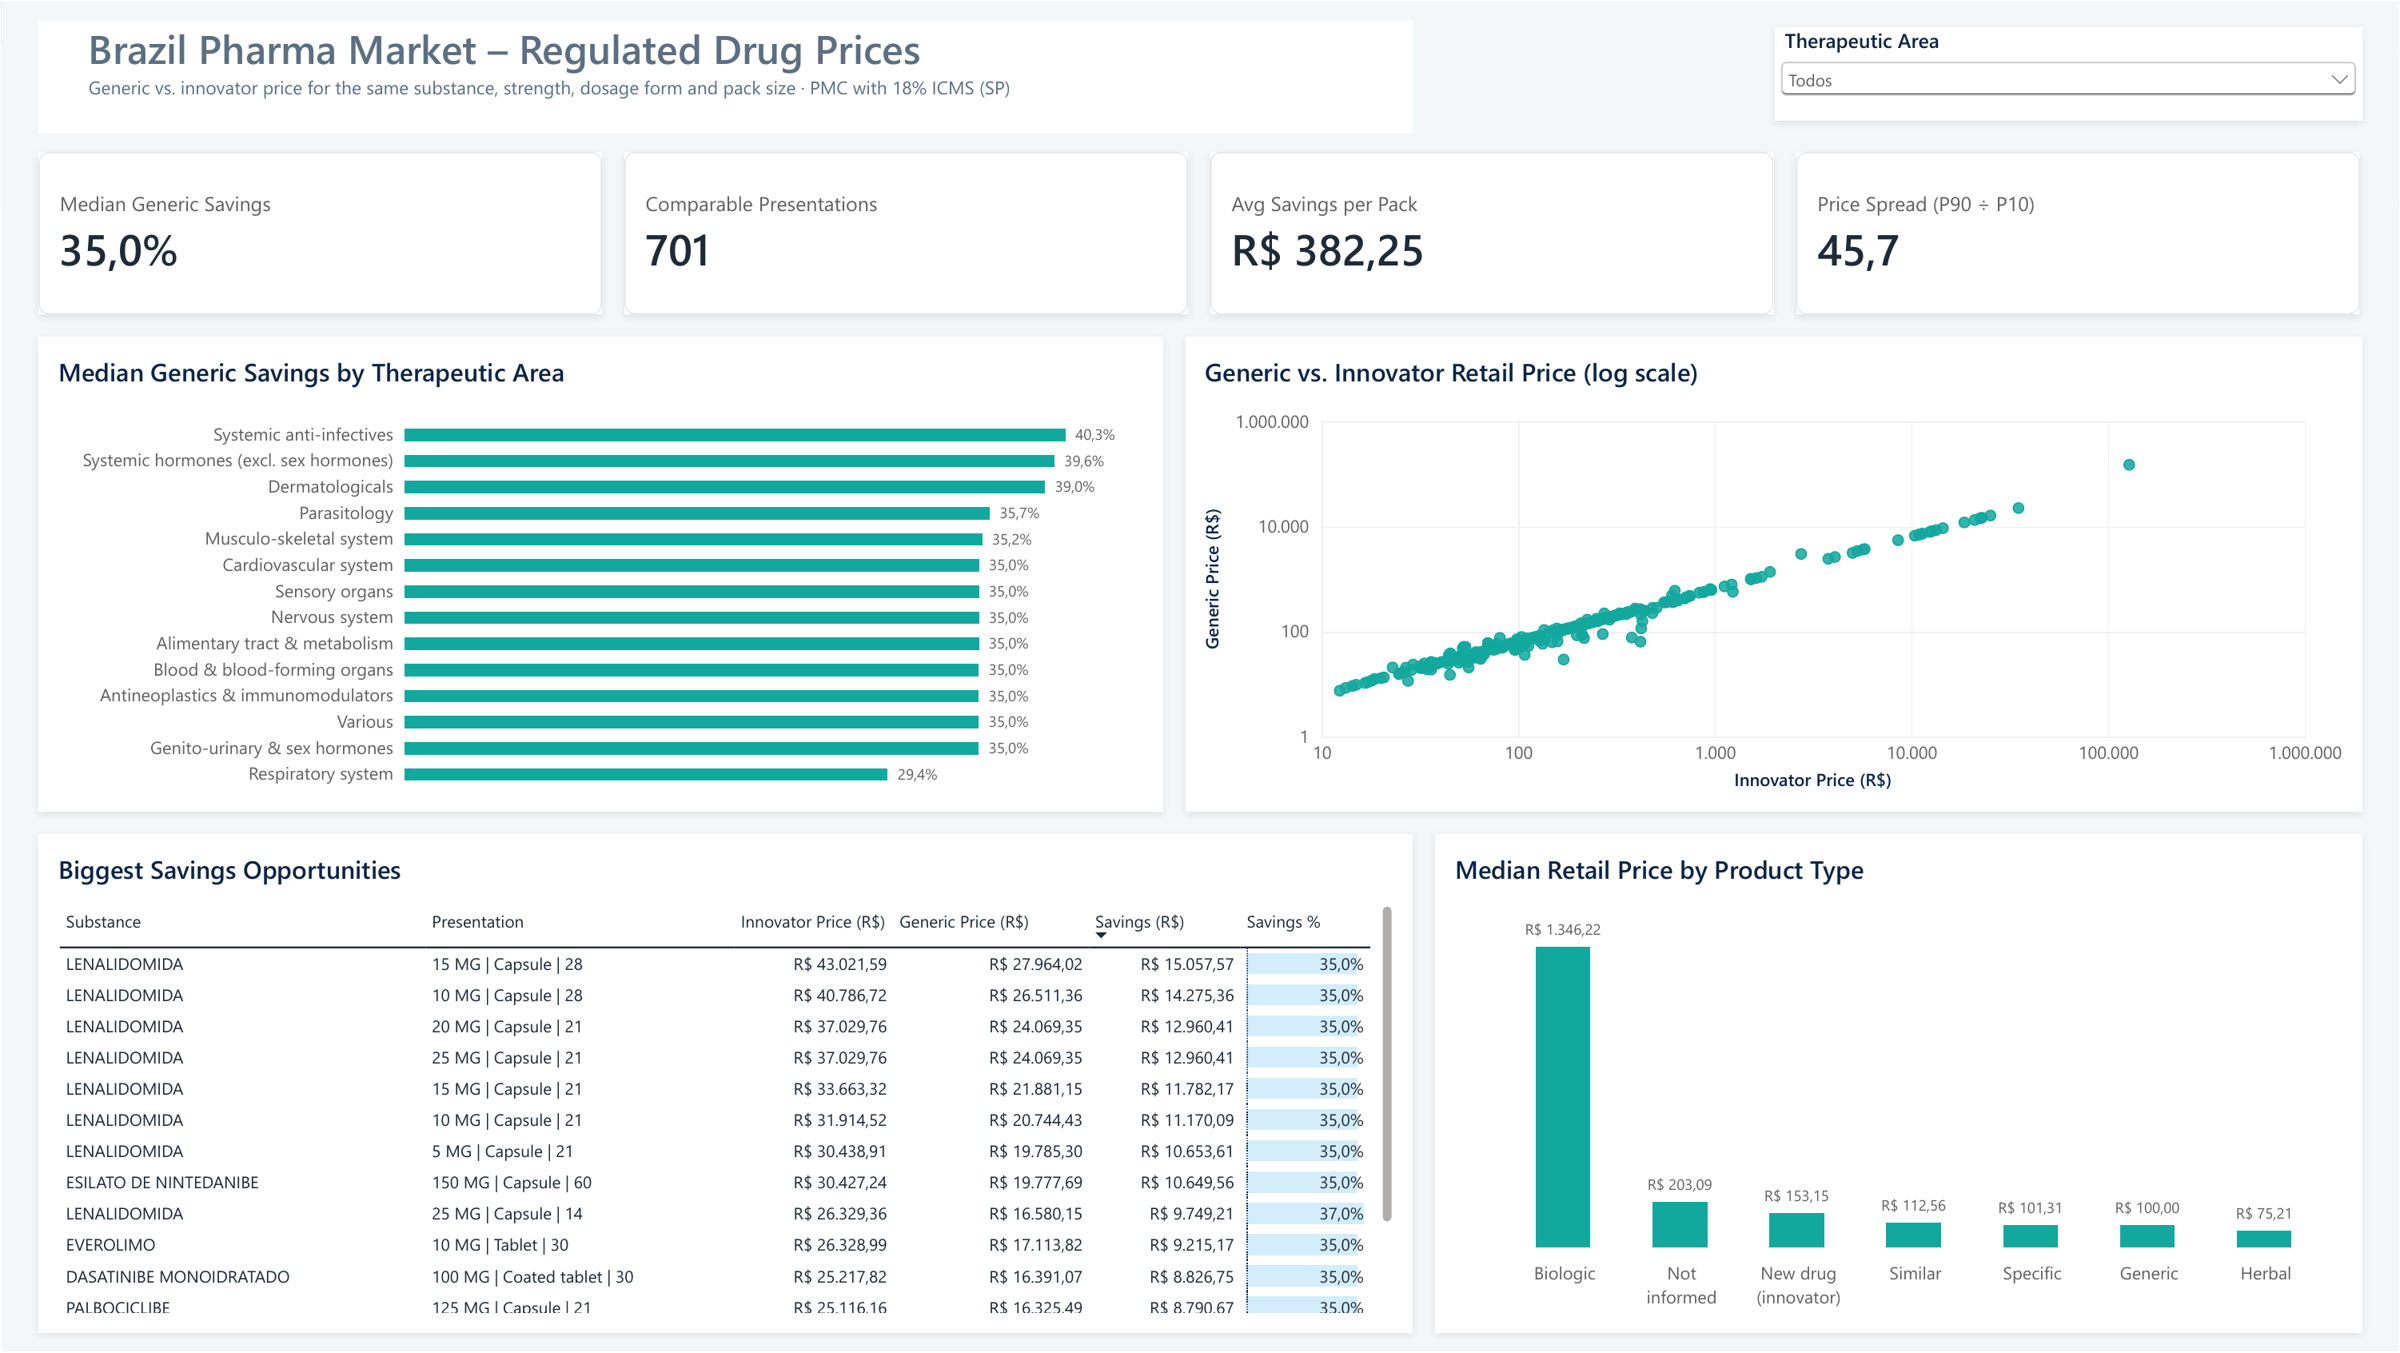

The page's visual inventory and layout, read from the dashboard file:
{"tool":"powerbi","page":{"name":"Price Analysis","canvas":[1920,1080],"ordinal":1},"visuals":[{"type":"textbox","box":[30,15,1100,90],"z":0},{"type":"slicer","fields":{"Values":["generic_vs_reference.anatomical_group"]},"box":[1420,20,470,75],"z":1000},{"type":"cardVisual","fields":{"Data":["_Measures.Median Generic Savings %"]},"box":[30,120,451,130],"z":2000},{"type":"cardVisual","fields":{"Data":["_Measures.Comparable Pairs"]},"box":[499,120,451,130],"z":3000},{"type":"cardVisual","fields":{"Data":["_Measures.Avg Savings per Pack (R$)"]},"box":[968,120,451,130],"z":4000},{"type":"cardVisual","fields":{"Data":["_Measures.Price Spread (P90/P10)"]},"box":[1437,120,451,130],"z":5000},{"type":"clusteredBarChart","title":"Median Generic Savings by Therapeutic Area","fields":{"Category":["generic_vs_reference.anatomical_group"],"Y":["_Measures.Median Generic Savings %"]},"box":[30,268,900,380],"z":6000},{"type":"scatterChart","title":"Generic vs. Innovator Retail Price (log scale)","fields":{"Category":["generic_vs_reference.substance"],"X":["Avg(generic_vs_reference.reference_pmc)"],"Y":["Avg(generic_vs_reference.generic_pmc)"]},"box":[948,268,942,380],"z":7000},{"type":"tableEx","title":"Biggest Savings Opportunities","fields":{"Values":["generic_vs_reference.substance","generic_vs_reference.match_key","Sum(generic_vs_reference.reference_pmc)","Sum(generic_vs_reference.generic_pmc)","_Measures.Avg Savings per Pack (R$)","Sum(generic_vs_reference.savings_pct)"]},"box":[30,666,1100,399],"z":8000},{"type":"clusteredColumnChart","title":"Median Retail Price by Product Type","fields":{"Category":["fact_presentation.product_type"],"Y":["_Measures.Median PMC (SP)"]},"box":[1148,666,742,399],"z":9000}]}

Visuals, with their boxes in screenshot pixels (x1, y1, x2, y2), scaled from the page's 1920x1080 canvas onto the 2400x1353 screenshot:
textbox: 38, 19, 1412, 132
slicer - generic_vs_reference.anatomical_group: 1775, 25, 2362, 119
cardVisual - _Measures.Median Generic Savings %: 38, 150, 601, 313
cardVisual - _Measures.Comparable Pairs: 624, 150, 1188, 313
cardVisual - _Measures.Avg Savings per Pack (R$): 1210, 150, 1774, 313
cardVisual - _Measures.Price Spread (P90/P10): 1796, 150, 2360, 313
"Median Generic Savings by Therapeutic Area" clusteredBarChart: 38, 336, 1162, 812
"Generic vs. Innovator Retail Price (log scale)" scatterChart: 1185, 336, 2362, 812
"Biggest Savings Opportunities" tableEx: 38, 834, 1412, 1334
"Median Retail Price by Product Type" clusteredColumnChart: 1435, 834, 2362, 1334
